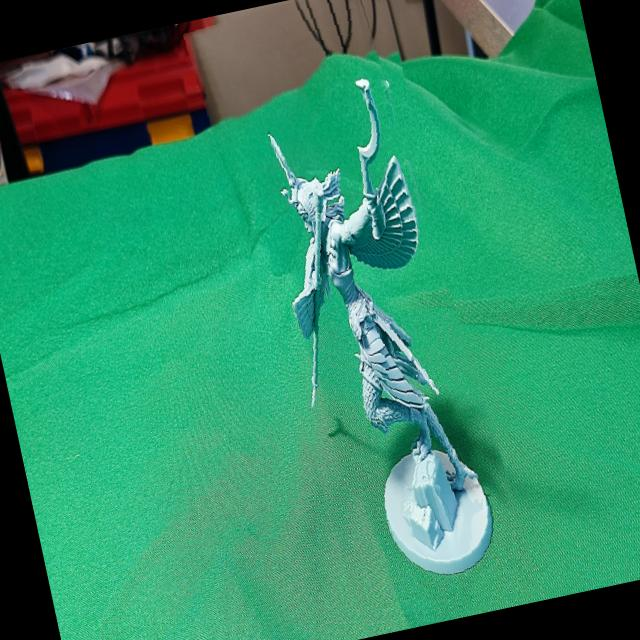isis: (192, 0, 529, 640)
